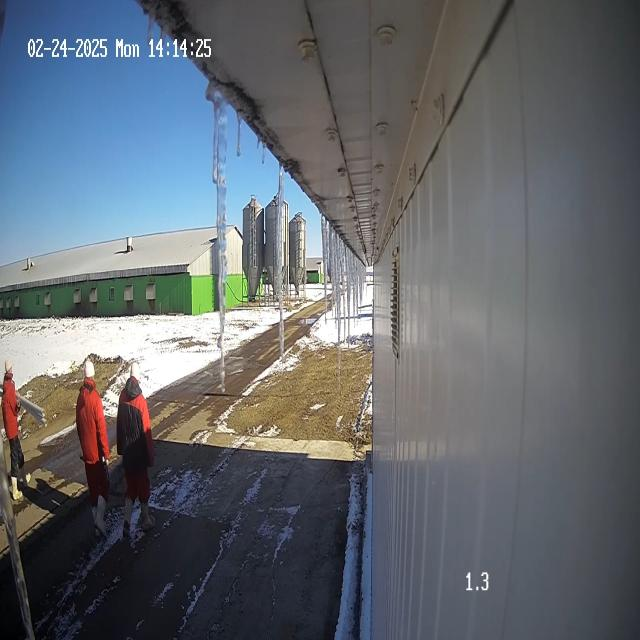Red uniform: (116, 375, 155, 536), (76, 359, 110, 537), (1, 361, 27, 500)
